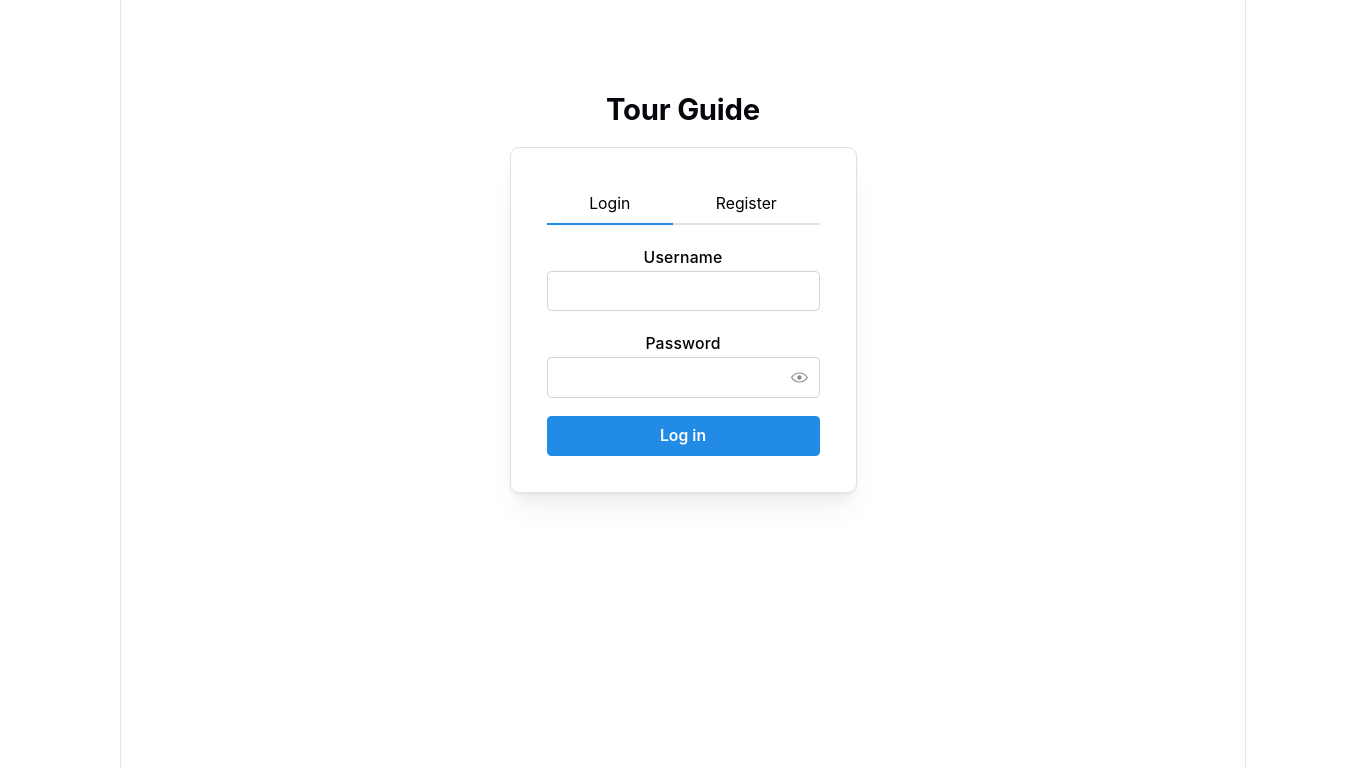
LoginPage › shows validation errors on empty submit
Click the button "Log in": [683, 436] box x1=546 y1=416 x2=820 y2=456
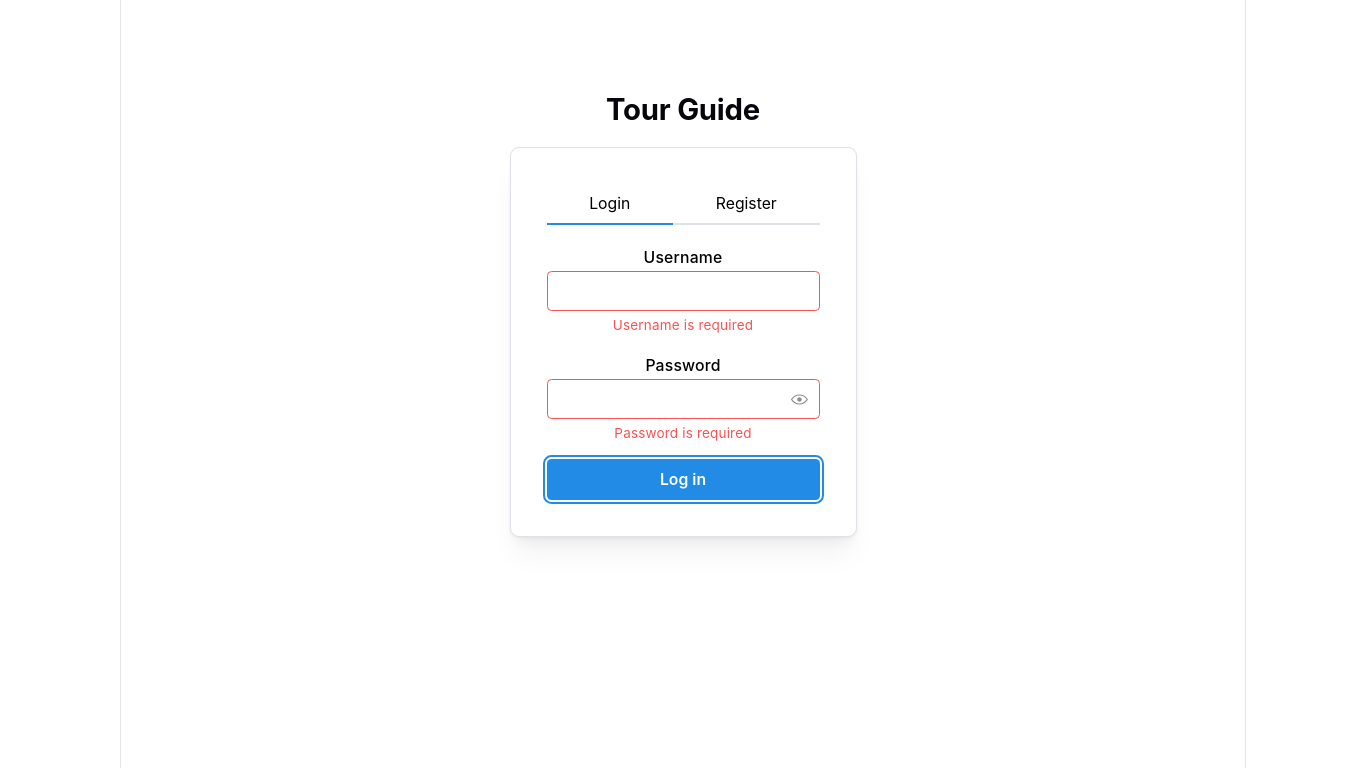
Now the text "Username is required" is shown, box x1=613 y1=317 x2=753 y2=333
